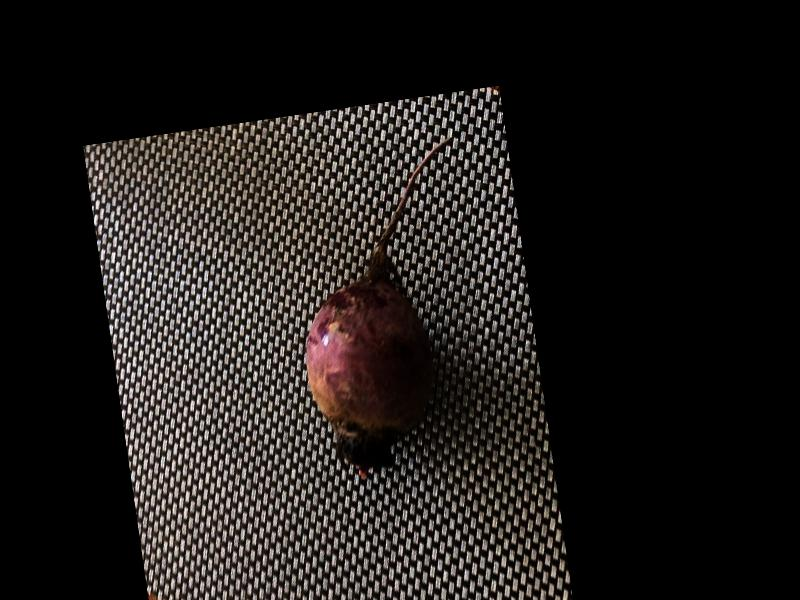Beet: (277, 135, 498, 485)
